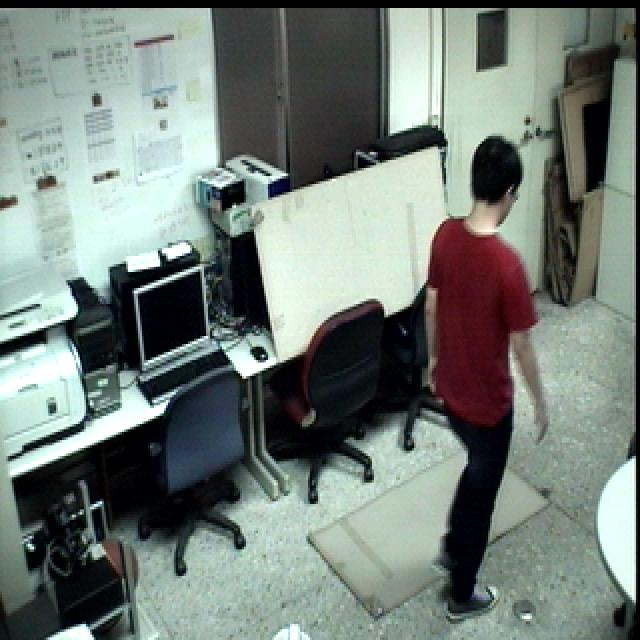stand: (415, 128, 558, 626)
